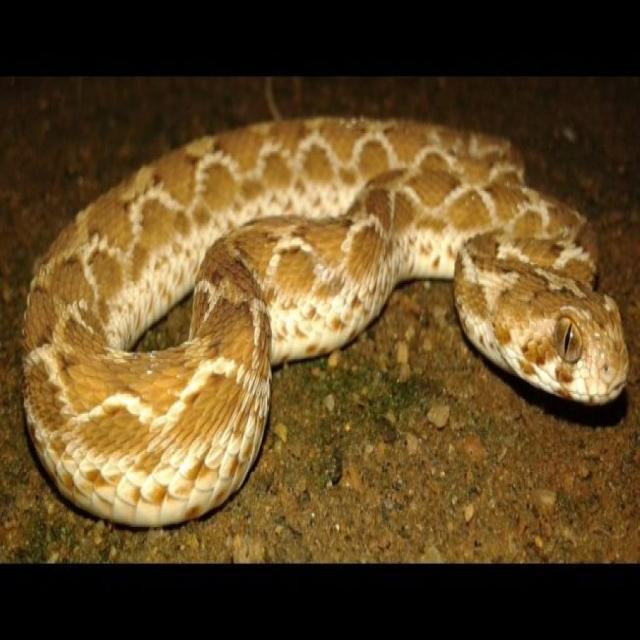Snake: (19, 111, 629, 528)
